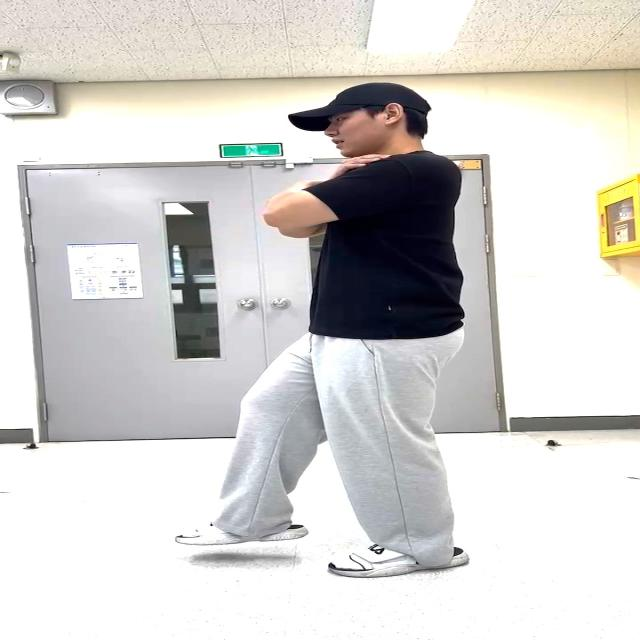leg: (184, 361, 306, 535)
